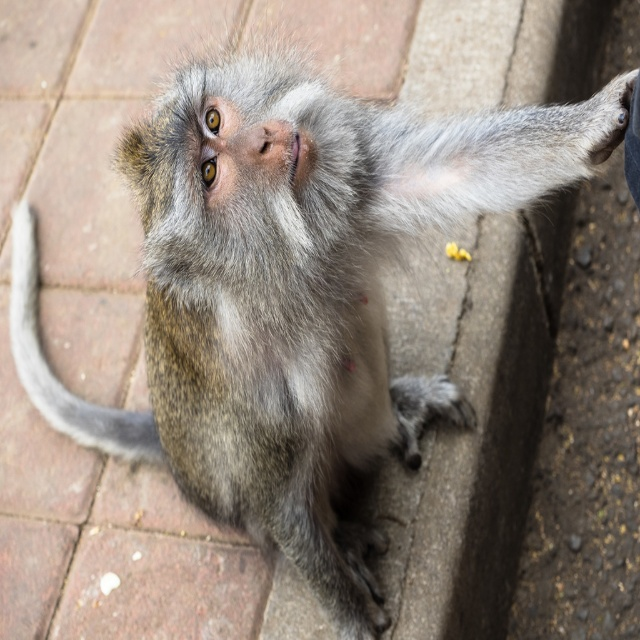Monkey: (22, 29, 616, 618)
